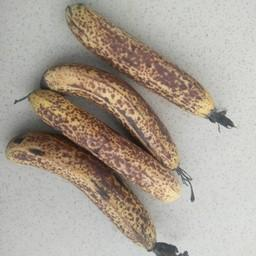Bad_banana: (44, 62, 186, 250), (64, 1, 217, 131), (7, 130, 153, 254)
